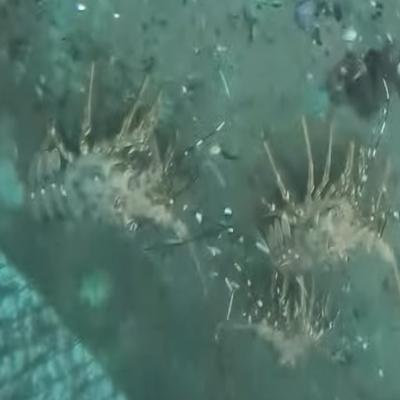lobster: (28, 110, 185, 234), (265, 150, 379, 272), (247, 277, 319, 374)
